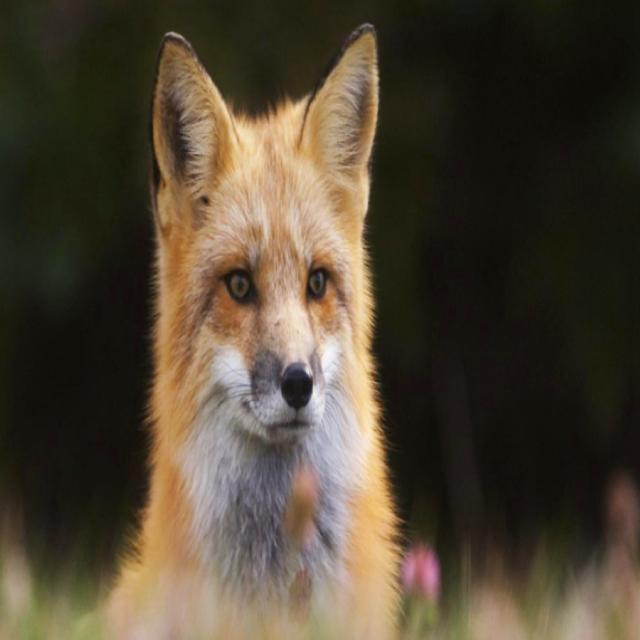fox: (107, 23, 401, 639)
